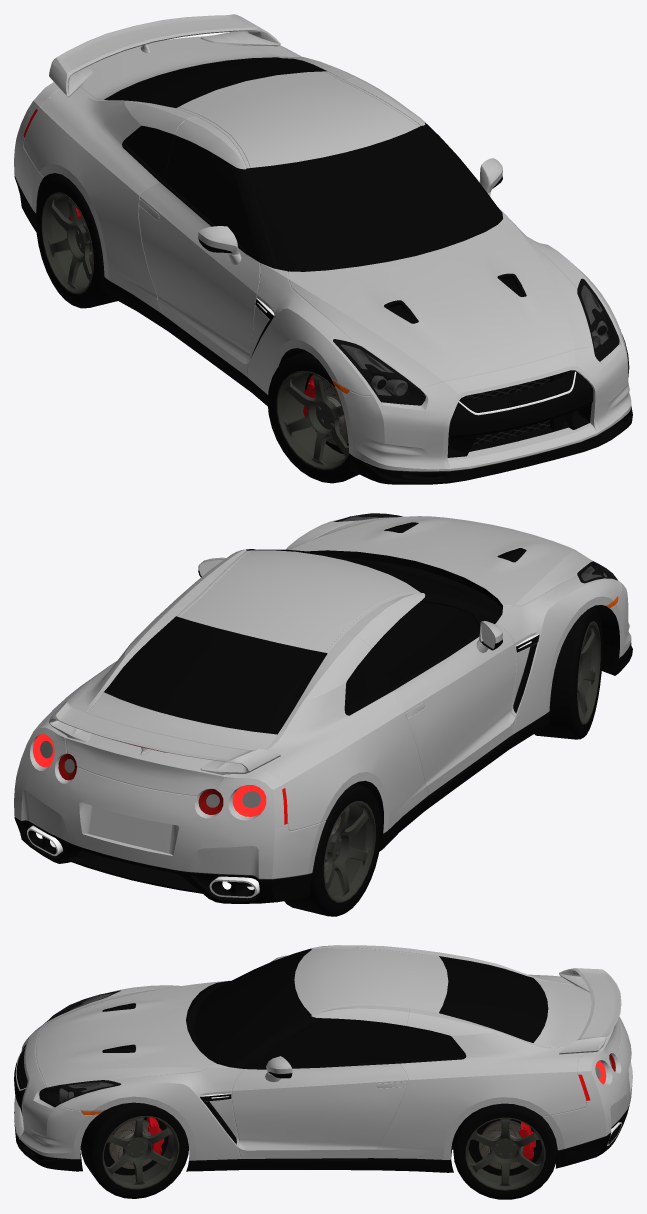
The model's file is nissan_gt-r.glb.
The picture shows the model from 3 angles, top to bottom: view 1: azimuth 30°, elevation 25°; view 2: azimuth 150°, elevation 25°; view 3: azimuth 270°, elevation 25°; orthographic projection. The views are drawn at different scales.
Visible parts, largest first — view 1: mesh.001_paint_0, mesh.011_glass_0, mesh.004_bumpa_0, mesh.003_mlack_0, wheel.002, wheel.001, mesh.010_glass_l_0, mesh.007_black_0, mesh.008_bhrome_0, mesh.015_grill_0; view 2: mesh.001_paint_0, mesh.011_glass_0, mesh.004_bumpa_0, mesh.003_mlack_0, wheel.001, wheel.002, mesh.008_bhrome_0, mesh.014_red_0, mesh.010_glass_l_0, mesh.012_brake_0, mesh_light_0; view 3: mesh.001_paint_0, mesh.011_glass_0, mesh.004_bumpa_0, wheel, wheel.001, mesh.003_mlack_0, mesh.010_glass_l_0, mesh.007_black_0, mesh.008_bhrome_0.
Part boxes in pixels (x1=…): mesh.001_paint_0: x1=14, y1=14, x2=631, y2=471; mesh.011_glass_0: x1=113, y1=58, x2=491, y2=262; mesh.004_bumpa_0: x1=14, y1=121, x2=632, y2=484; mesh.003_mlack_0: x1=36, y1=57, x2=612, y2=451; wheel.002: x1=267, y1=350, x2=359, y2=483; wheel.001: x1=35, y1=175, x2=117, y2=308; mesh.010_glass_l_0: x1=333, y1=278, x2=619, y2=405; mesh.007_black_0: x1=333, y1=279, x2=618, y2=405; mesh.008_bhrome_0: x1=256, y1=285, x2=607, y2=395; mesh.015_grill_0: x1=465, y1=376, x2=549, y2=445; mesh.001_paint_0: x1=14, y1=516, x2=631, y2=879; mesh.011_glass_0: x1=113, y1=549, x2=491, y2=728; mesh.004_bumpa_0: x1=14, y1=522, x2=632, y2=903; mesh.003_mlack_0: x1=27, y1=550, x2=619, y2=897; wheel.001: x1=284, y1=783, x2=381, y2=916; wheel.002: x1=534, y1=606, x2=602, y2=739; mesh.008_bhrome_0: x1=27, y1=516, x2=606, y2=898; mesh.014_red_0: x1=32, y1=734, x2=266, y2=816; mesh.010_glass_l_0: x1=333, y1=513, x2=617, y2=583; mesh.012_brake_0: x1=58, y1=741, x2=223, y2=814; mesh_light_0: x1=40, y1=741, x2=260, y2=807; mesh.001_paint_0: x1=14, y1=945, x2=632, y2=1160; mesh.011_glass_0: x1=206, y1=952, x2=543, y2=1066; mesh.004_bumpa_0: x1=14, y1=948, x2=631, y2=1172; wheel: x1=81, y1=1102, x2=188, y2=1198; wheel.001: x1=453, y1=1103, x2=557, y2=1199; mesh.003_mlack_0: x1=29, y1=949, x2=621, y2=1168; mesh.010_glass_l_0: x1=39, y1=990, x2=120, y2=1107; mesh.007_black_0: x1=39, y1=991, x2=120, y2=1106; mesh.008_bhrome_0: x1=59, y1=993, x2=621, y2=1145.
Bounding box in the file's own units: 1.95 × 1.38 × 4.43.
Materials: 21 (2 with a texture image).
